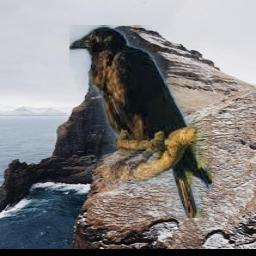Crow: (68, 26, 211, 219)
